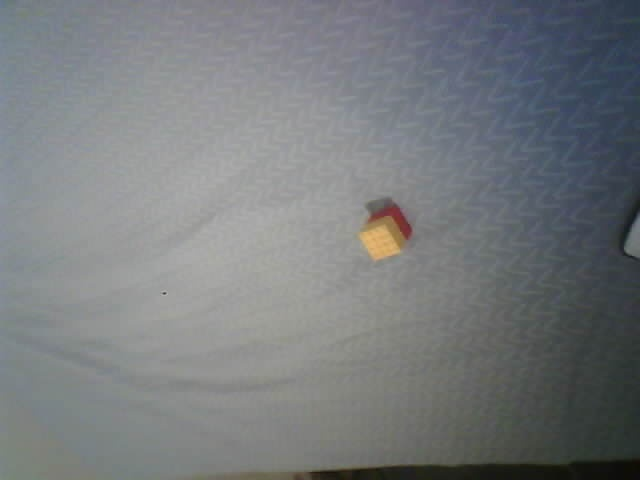lego: (357, 204, 413, 263)
